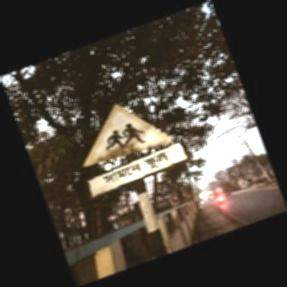School-in-front: (81, 102, 186, 204)
